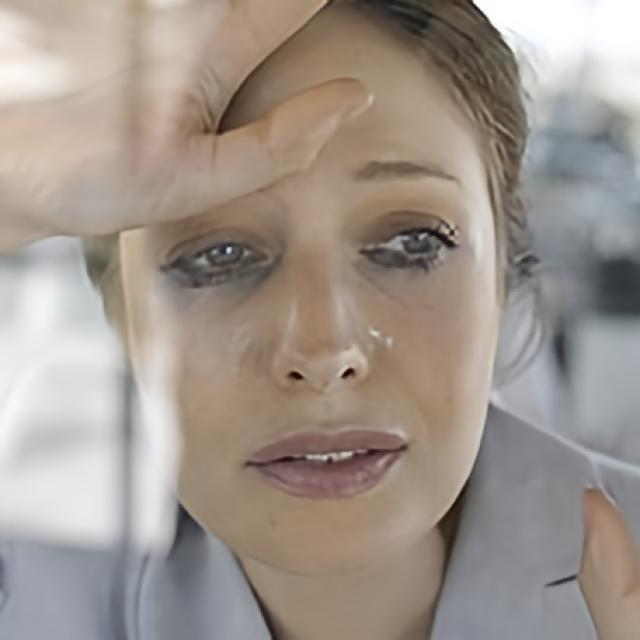fear: (123, 1, 503, 579)
